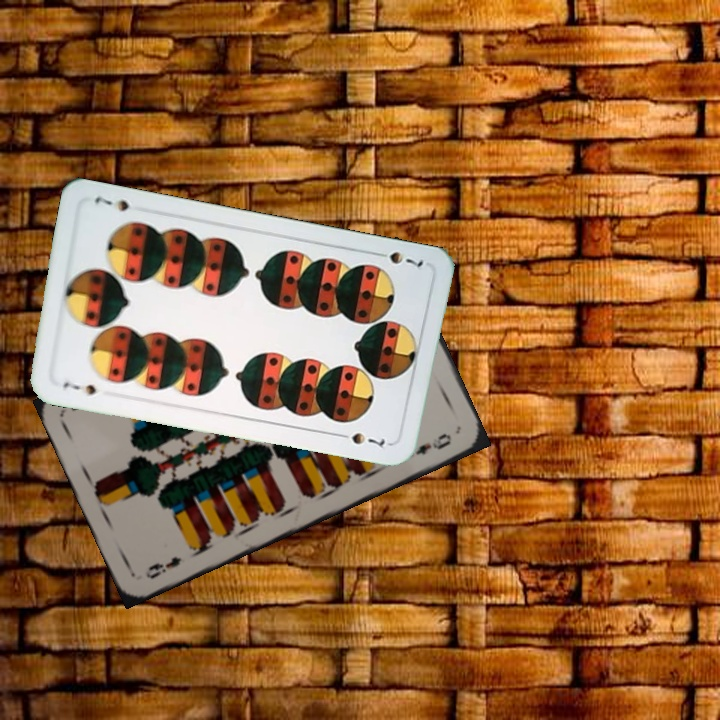E9: (141, 552, 184, 582)
S7: (370, 247, 426, 270), (59, 378, 99, 398)
